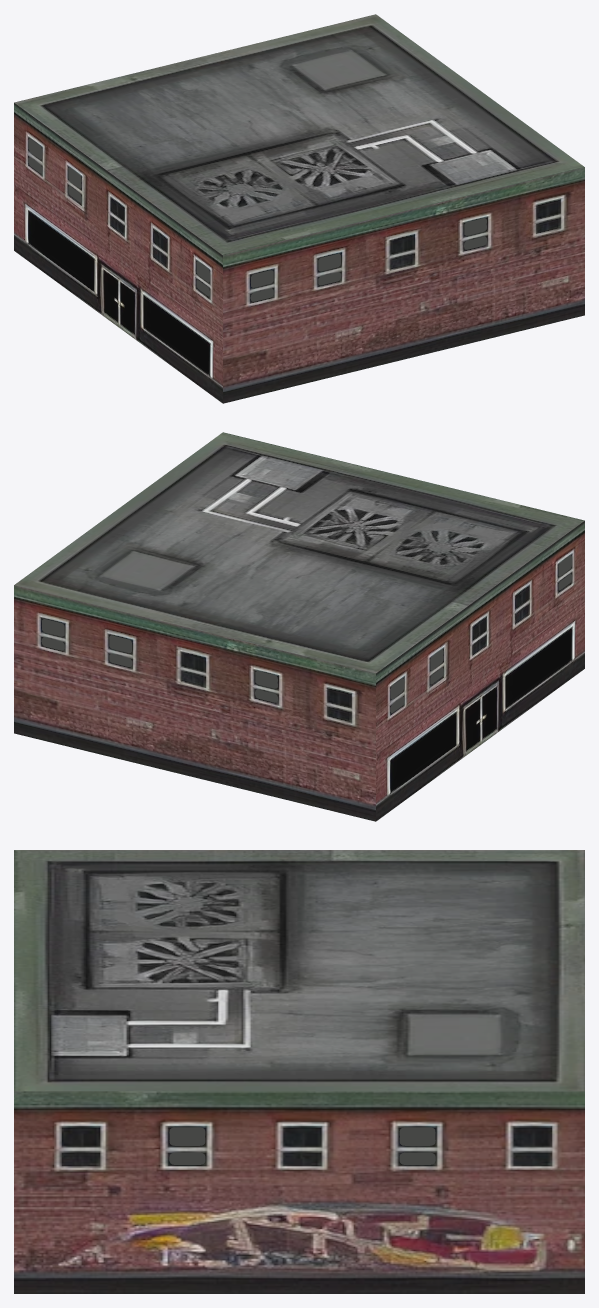
Rendered from city2storyc_hdtex.glb.
The picture shows the model from 3 angles, top to bottom: view 1: azimuth 30°, elevation 25°; view 2: azimuth 150°, elevation 25°; view 3: azimuth 270°, elevation 25°; orthographic projection. The views are drawn at different scales.
Parts seen in each view (by area): view 1: City2StoryA, LitWin_City2Story; view 2: City2StoryA, LitWin_City2Story; view 3: City2StoryA, LitWin_City2Story.
Part boxes in pixels (x1,y1,x2,y2): City2StoryA: (14,14,584,403); LitWin_City2Story: (28,138,486,301); City2StoryA: (14,432,584,821); LitWin_City2Story: (41,555,571,713); City2StoryA: (14,850,584,1293); LitWin_City2Story: (169,1127,435,1164).
Bounding box in the file's own units: 17.76 × 6.95 × 17.76.
1 material, 1 textured.
